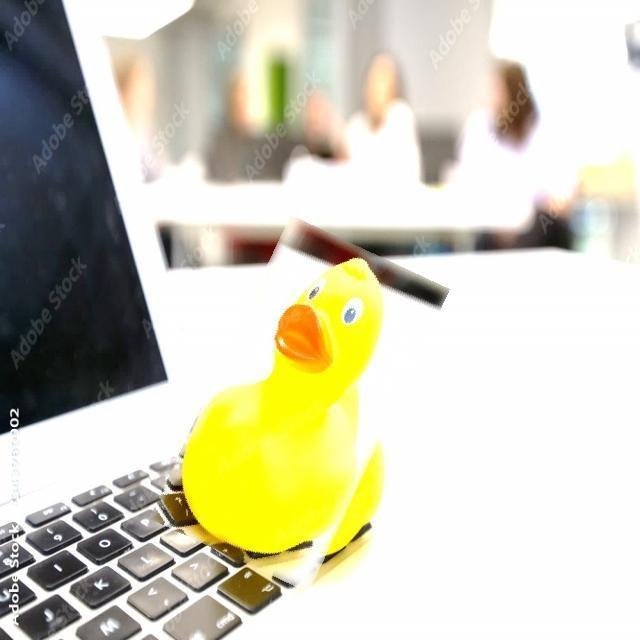rubber-duck: (181, 219, 446, 585)
